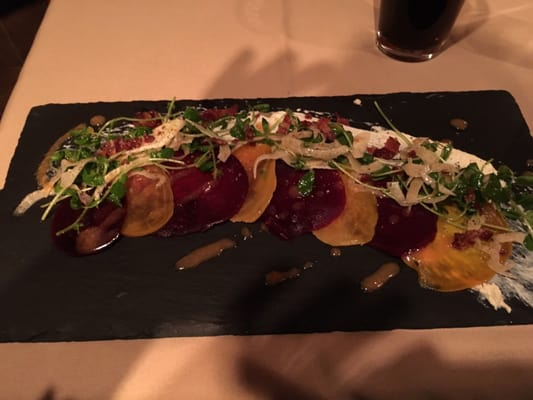pizza: (373, 0, 469, 62)
